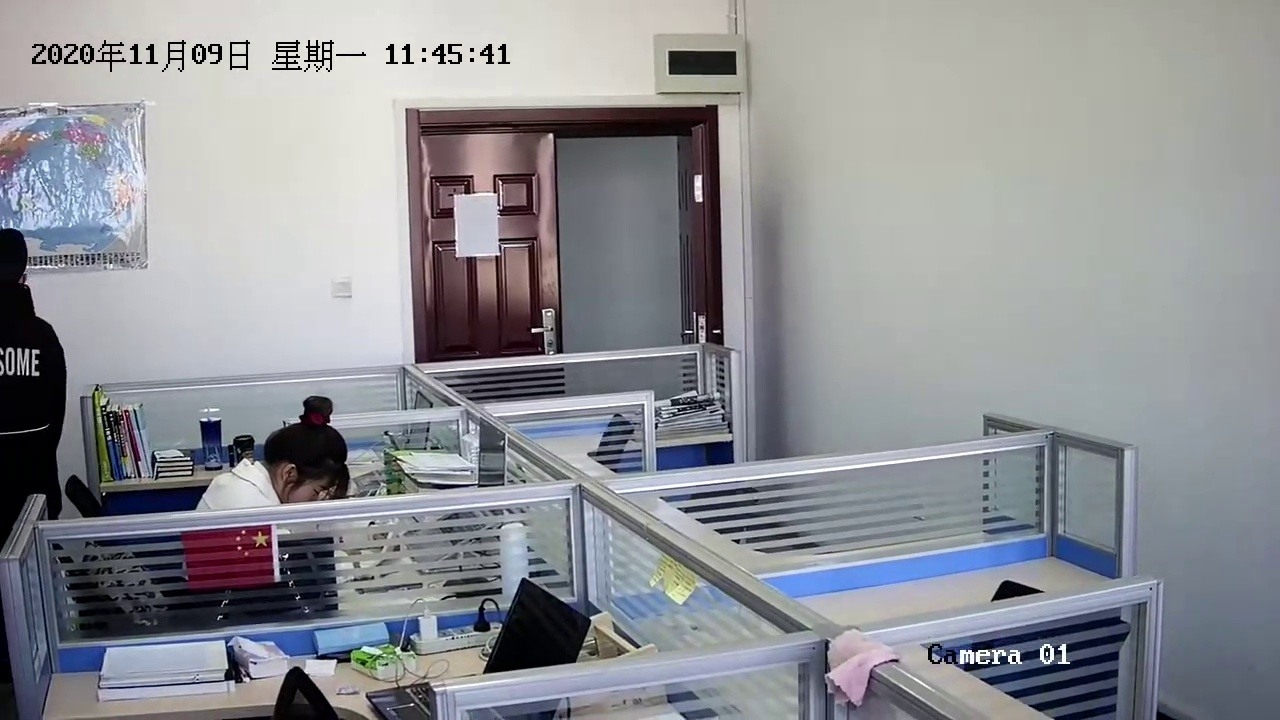mask: (265, 415, 347, 504)
